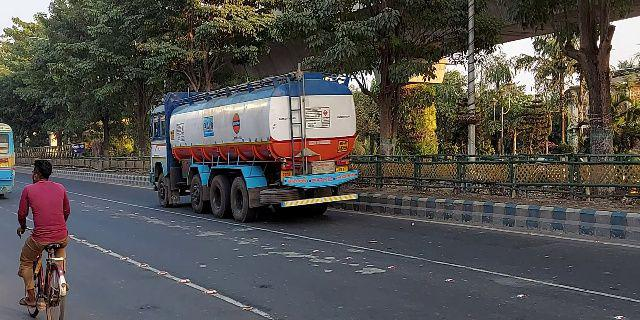Bus: (1, 120, 18, 201)
Cycle: (12, 155, 76, 317)
Truck: (146, 71, 355, 225)
